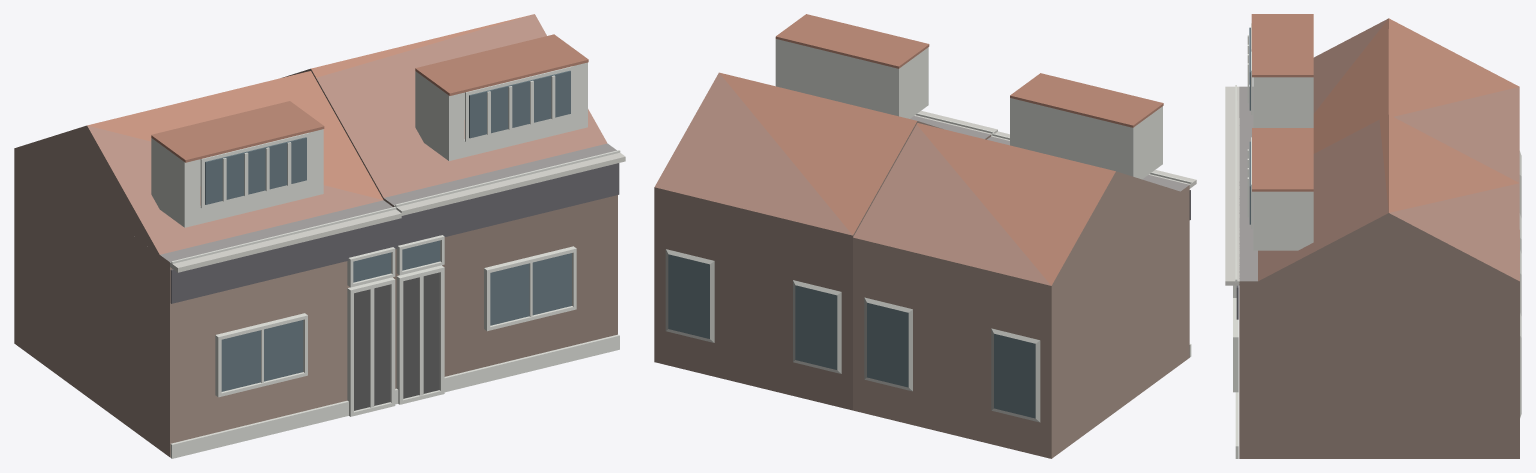
The model's file is chunk-face-zamenhof-54-60-r1.lod2.glb.
3 views of the same model, side by side, from view 1: azimuth 30°, elevation 25°; view 2: azimuth 150°, elevation 25°; view 3: azimuth 270°, elevation 25° (orthographic). The views are drawn at different scales.
Parts seen in each view (by area): view 1: lod2; view 2: lod2; view 3: lod2.
Part boxes in pixels (x1,y1,x2,y2): lod2: [14, 14, 625, 458]; lod2: [654, 14, 1196, 458]; lod2: [1225, 14, 1521, 458].
Size of the model in its own units: 10 by 6.17 by 6.37.
